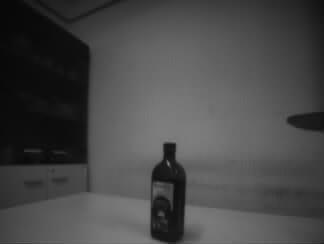Bottle: (150, 142, 186, 243)
